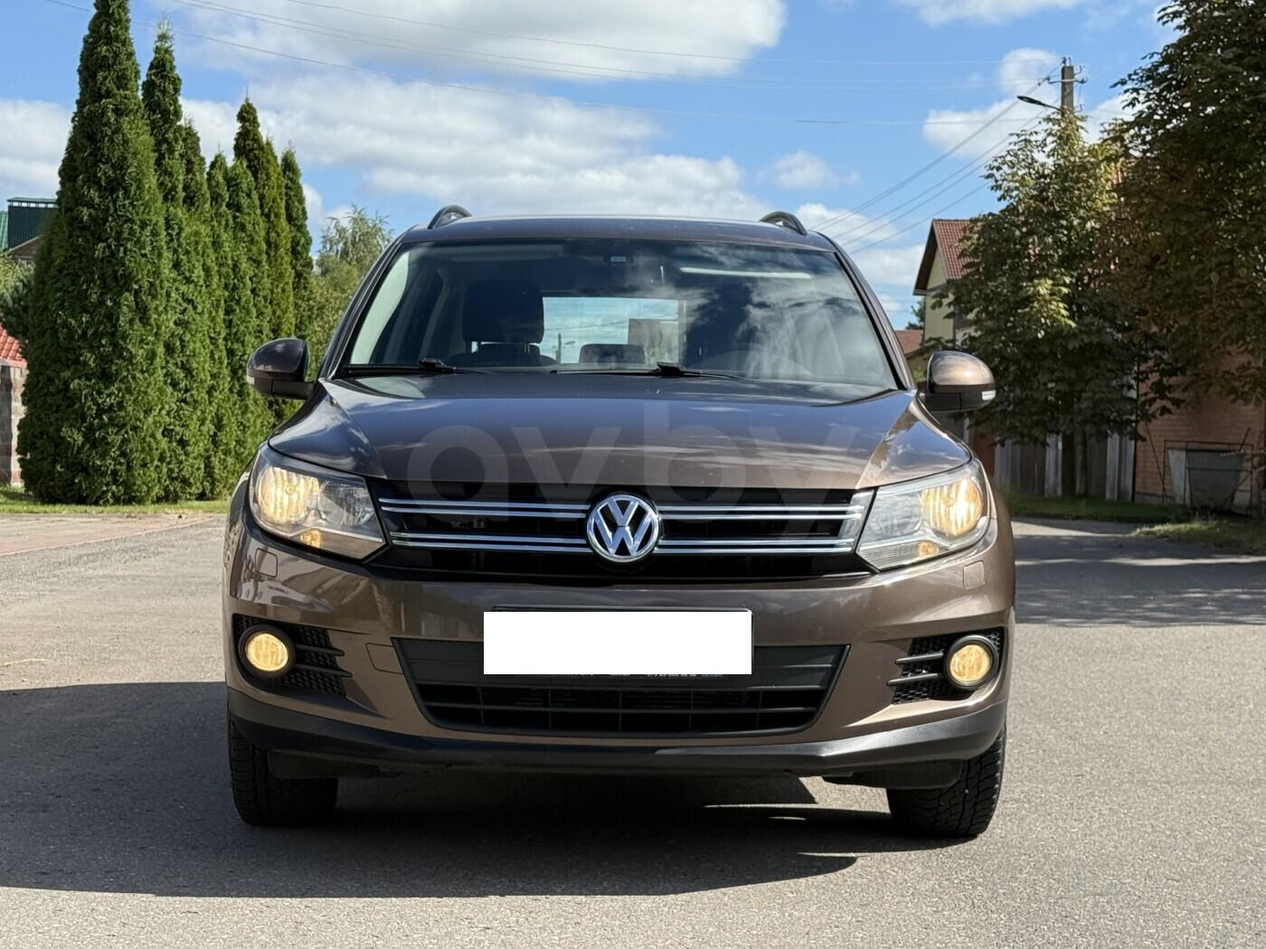Tiguan_2011-2018: (211, 201, 1022, 844)
